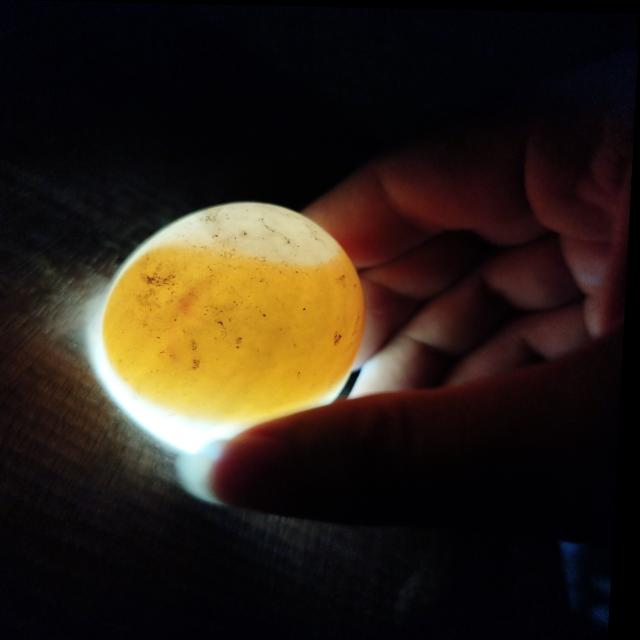Camara de Ar: (216, 201, 343, 265)
